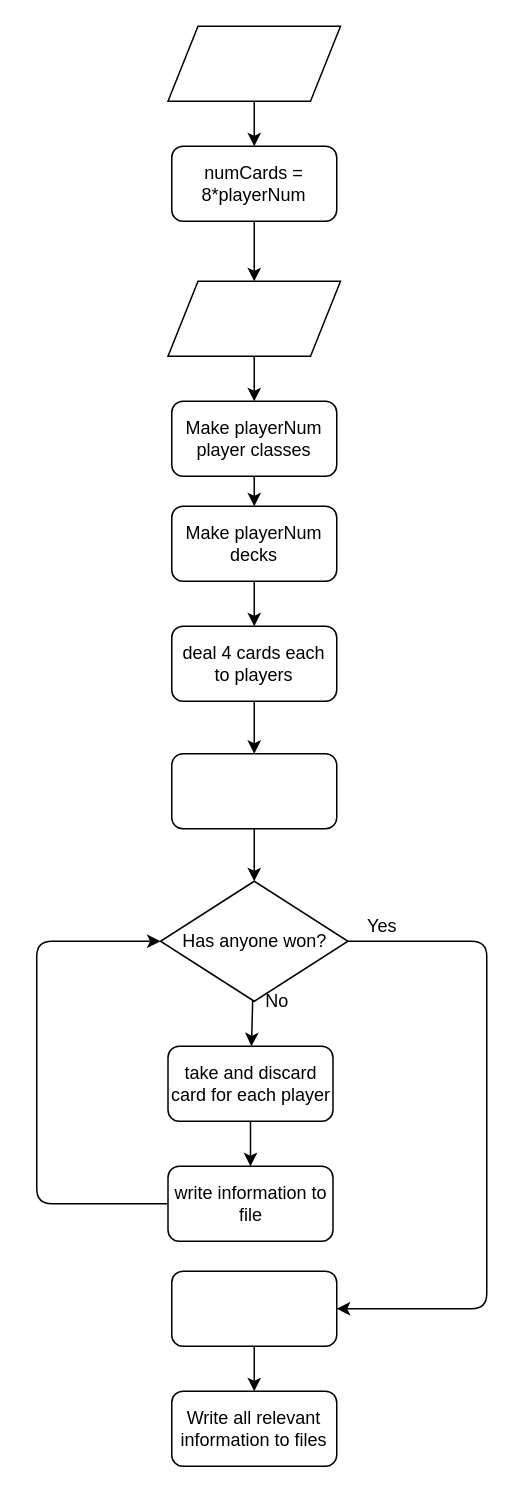
Image size: 525x1493. Some labels were removed from this diagram. The shapes that lost their labels are listed below. From the top down, each one's box as (x1, y1, x2, y2) in pixels, then its label:
(166, 25, 340, 101): Get playerNum
(166, 280, 340, 356): Get inputPack
(170, 752, 337, 829): deal to decks
(170, 1270, 337, 1346): print I win/notify threads
